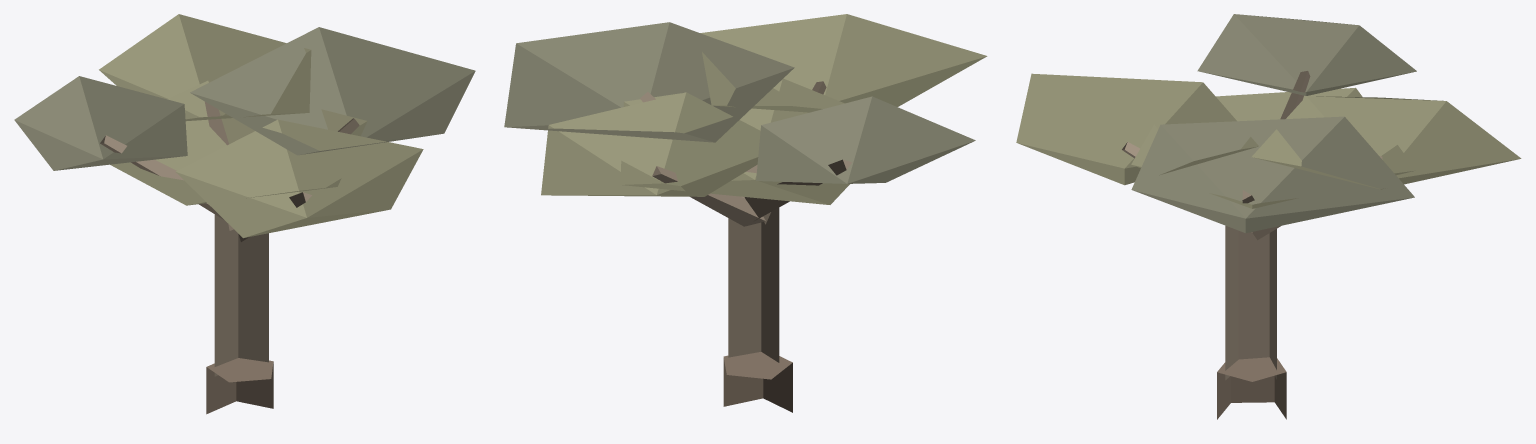
File: tree.sub.acacia__winter.glb
The picture shows the model from 3 angles, left to right: view 1: azimuth 30°, elevation 25°; view 2: azimuth 150°, elevation 25°; view 3: azimuth 270°, elevation 25°; orthographic projection. The views are drawn at different scales.
Visible parts, largest first — view 1: tree.sub.acacia__winter; view 2: tree.sub.acacia__winter; view 3: tree.sub.acacia__winter.
Boxes of the visible parts, x1,y1,x2,y2 form: tree.sub.acacia__winter: (14, 14, 475, 414); tree.sub.acacia__winter: (504, 14, 987, 412); tree.sub.acacia__winter: (1016, 14, 1521, 419).
Size of the model in its own units: 8.67 by 6.51 by 8.79.
